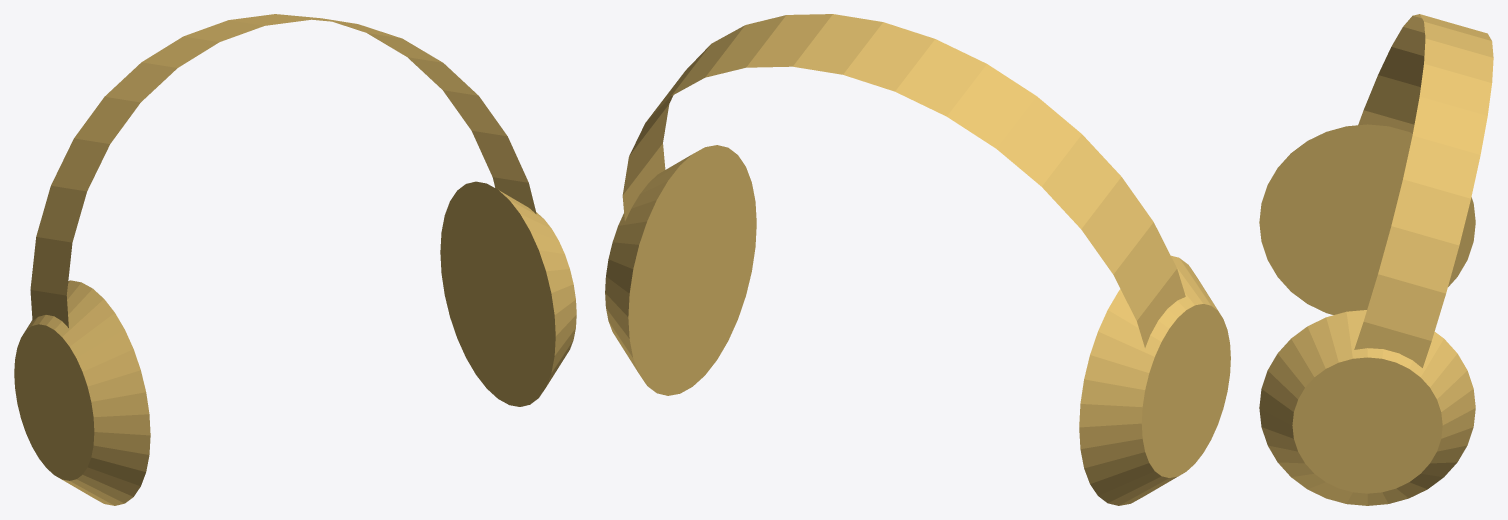
Rendered from hedset.glb.
The picture shows the model from 3 angles, left to right: view 1: azimuth 30°, elevation 25°; view 2: azimuth 150°, elevation 25°; view 3: azimuth 270°, elevation 25°; orthographic projection. The views are drawn at different scales.
Visible parts, largest first — view 1: Cylinder_006, Cylinder_007, Cylinder_003; view 2: Cylinder_003, Cylinder_006, Cylinder_007; view 3: Cylinder_006, Cylinder_003, Cylinder_007.
Boxes of the visible parts, <box> form: Cylinder_006: <box>440,181,576,406</box>; Cylinder_007: <box>14,280,150,505</box>; Cylinder_003: <box>30,14,536,327</box>; Cylinder_003: <box>622,14,1185,347</box>; Cylinder_006: <box>605,145,756,395</box>; Cylinder_007: <box>1079,255,1230,505</box>; Cylinder_006: <box>1259,310,1475,505</box>; Cylinder_003: <box>1354,14,1493,367</box>; Cylinder_007: <box>1259,124,1475,314</box>.
Bounding box in the file's own units: 1.85 × 1.46 × 0.8276.
